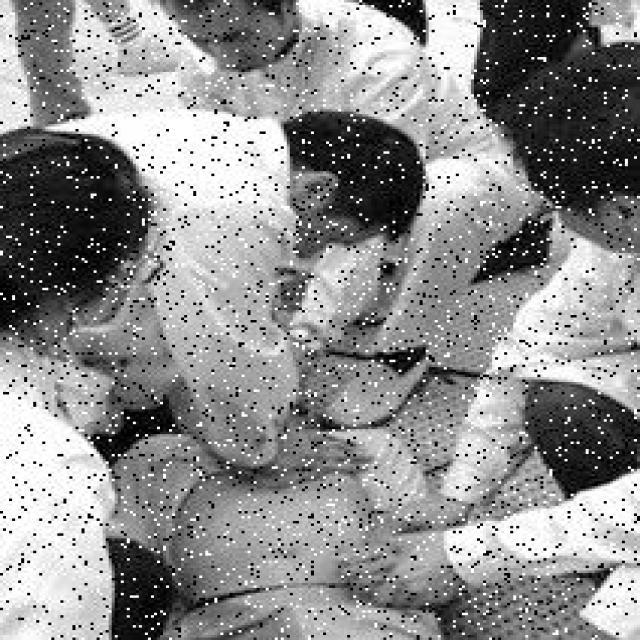fall: (114, 382, 420, 638)
